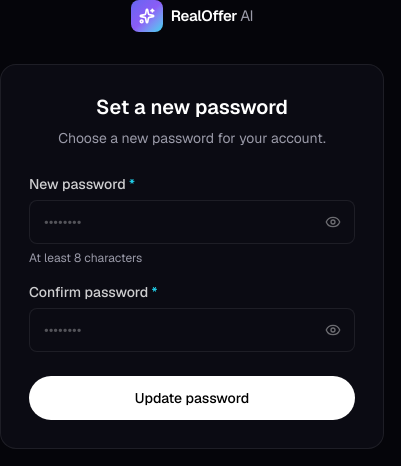
Test: ResetPasswordForm — submission › on success, shows the confirmation message and then redirects to /dashboard for an authenticated user
In the password field labelled "New password": (192, 222) [29,200,355,244], type "correcthorse1"
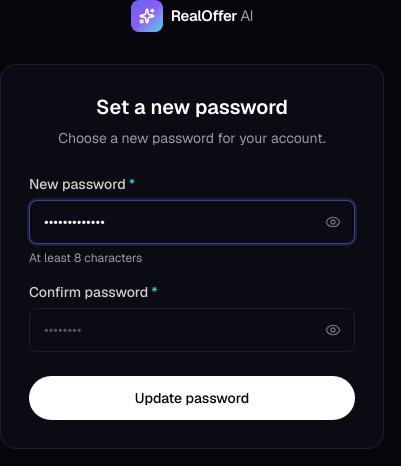
In the password field labelled "Confirm password": (192, 330) [29,308,355,352], type "correcthorse1"
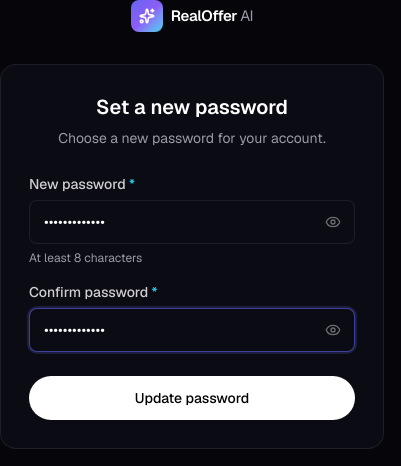
Click the button "Update password": (192, 398) [29,376,355,420]
Wait 2100 ms
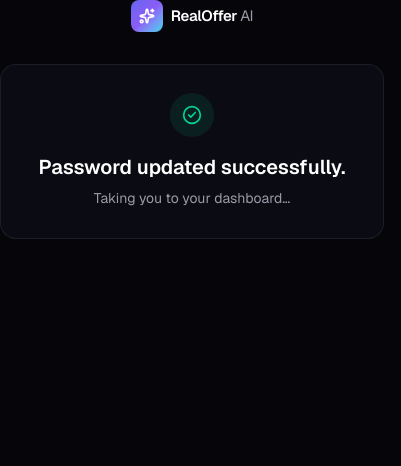
Expected: the heading "Password updated successfully." is shown, [29,153,355,181]
